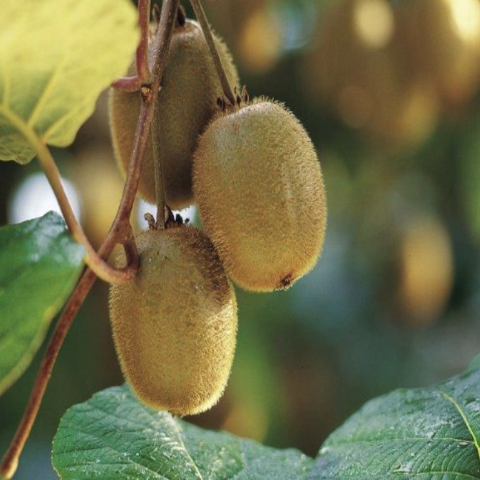kiwi: (98, 205, 258, 419), (110, 10, 252, 225), (188, 92, 338, 294)
